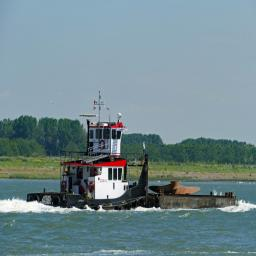tugboat: (27, 91, 153, 218)
